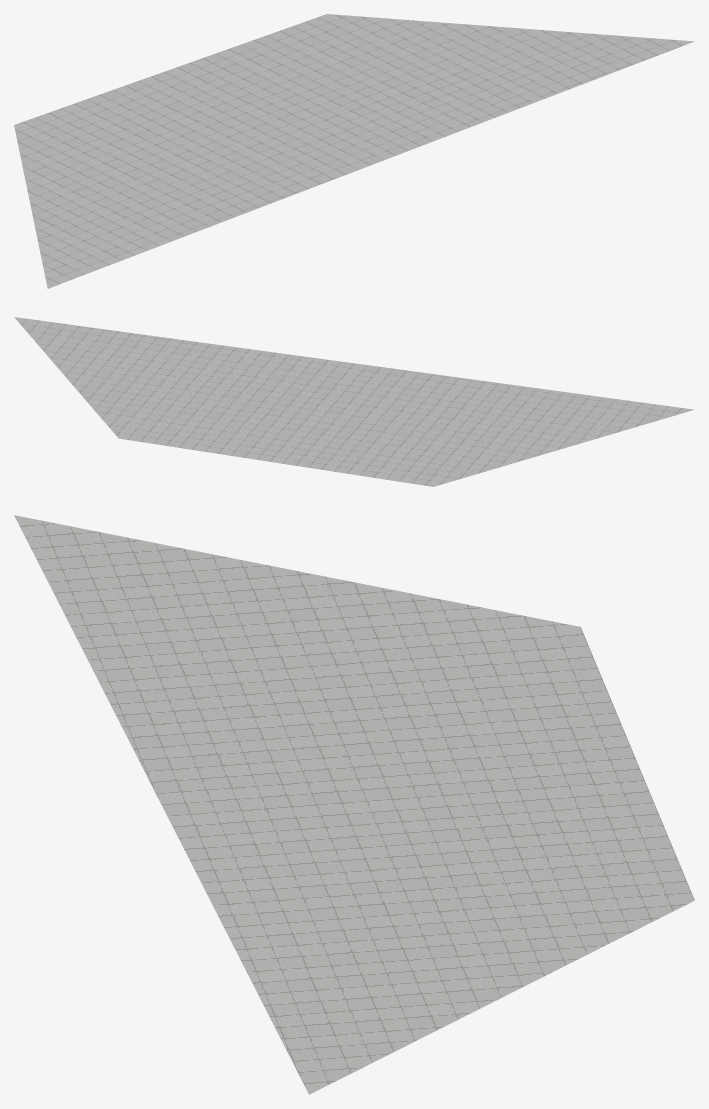
Rendered from kd_connection_town-ground_surface_1_33.glb.
The picture shows the model from 3 angles, top to bottom: view 1: azimuth 30°, elevation 25°; view 2: azimuth 150°, elevation 25°; view 3: azimuth 270°, elevation 25°; orthographic projection. The views are drawn at different scales.
Parts seen in each view (by area): view 1: kd_connection_town-ground_surface_1_33; view 2: kd_connection_town-ground_surface_1_33; view 3: kd_connection_town-ground_surface_1_33.
Boxes of the visible parts, x1=… form: kd_connection_town-ground_surface_1_33: x1=14, y1=14, x2=694, y2=288; kd_connection_town-ground_surface_1_33: x1=14, y1=317, x2=694, y2=486; kd_connection_town-ground_surface_1_33: x1=14, y1=515, x2=694, y2=1094.
Size of the model in its own units: 15.34 by 9.54e-07 by 7.62.
Materials: 1 (1 with a texture image).
